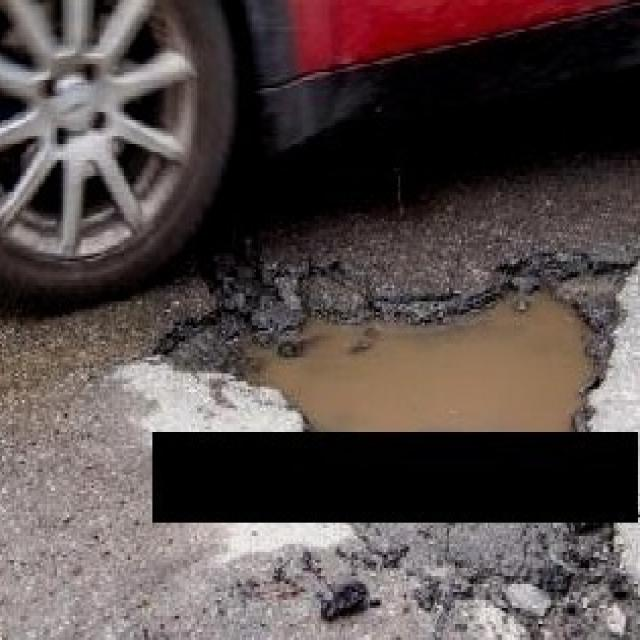road-pothole: (160, 266, 617, 435)
